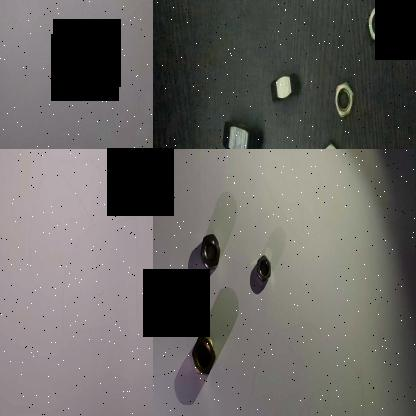NUTS: (220, 112, 264, 149), (266, 64, 302, 106), (363, 0, 391, 44), (191, 334, 219, 378), (330, 76, 356, 120), (198, 231, 221, 272), (255, 252, 273, 284), (320, 138, 342, 149)
